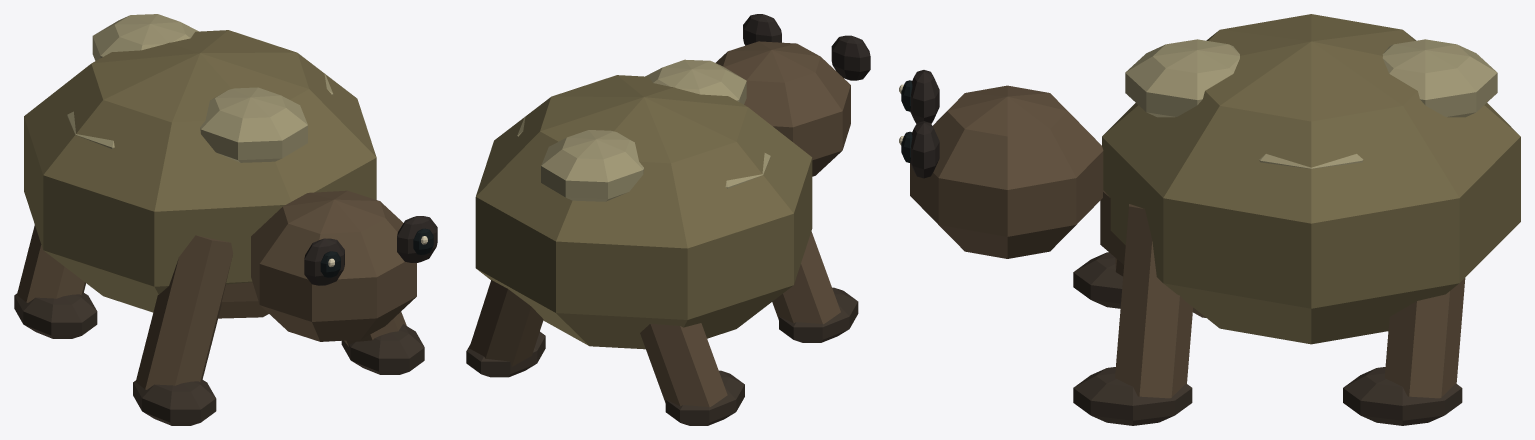
Rendered from fauna-saltback_tortoise.glb.
3 renders of one model, left to right at view 1: azimuth 30°, elevation 25°; view 2: azimuth 150°, elevation 25°; view 3: azimuth 270°, elevation 25°, orthographic. The views are drawn at different scales.
Parts seen in each view (by area): view 1: Fauna_saltback_tortoise; view 2: Fauna_saltback_tortoise; view 3: Fauna_saltback_tortoise.
Boxes of the visible parts, x1,y1,x2,y2 form: Fauna_saltback_tortoise: (14,14,437,425); Fauna_saltback_tortoise: (466,14,870,425); Fauna_saltback_tortoise: (899,14,1520,425).
Size of the model in its own units: 1.08 by 0.93 by 1.64.
